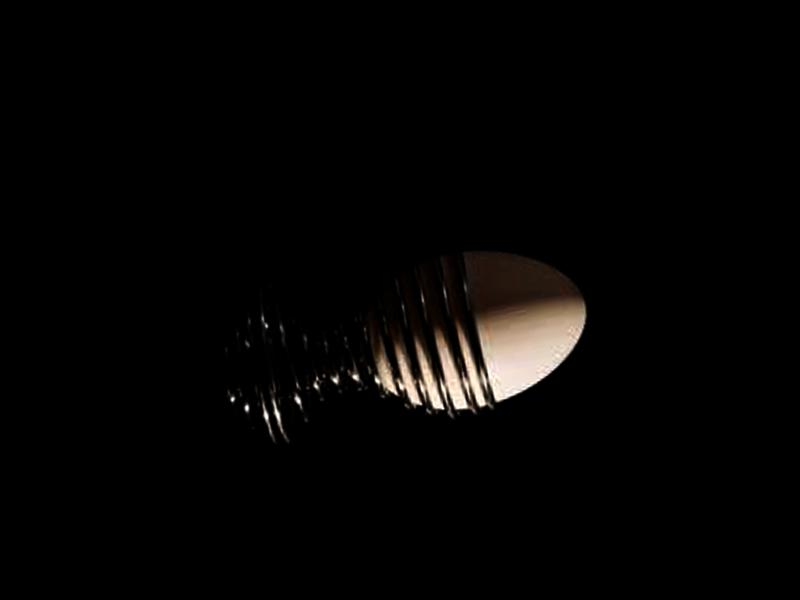Eggs: (355, 233, 601, 424)
